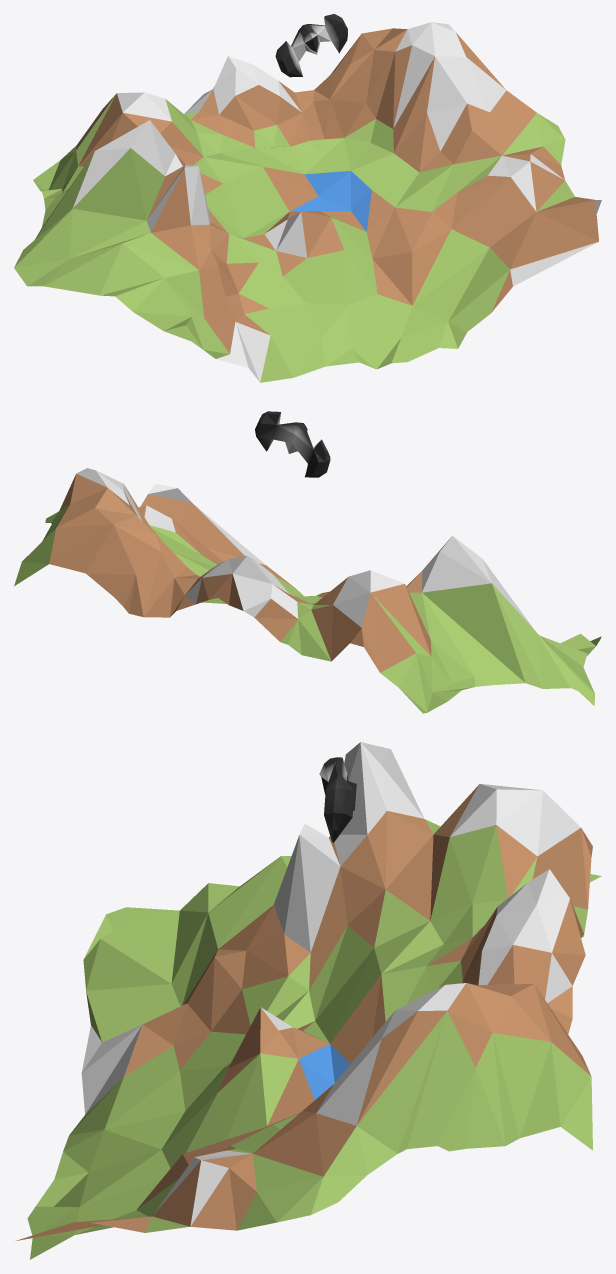
The model's file is start-screen.glb.
3 renders of one model, top to bottom at view 1: azimuth 30°, elevation 25°; view 2: azimuth 150°, elevation 25°; view 3: azimuth 270°, elevation 25°, orthographic. The views are drawn at different scales.
Parts seen in each view (by area): view 1: Grid, ShipPlayer; view 2: Grid, ShipPlayer; view 3: Grid, ShipPlayer.
Part boxes in pixels (<box>): Grid: <box>14,22,601,382</box>; ShipPlayer: <box>275,14,347,77</box>; Grid: <box>14,468,601,713</box>; ShipPlayer: <box>255,411,330,477</box>; Grid: <box>16,742,601,1259</box>; ShipPlayer: <box>319,757,356,842</box>.
Size of the model in its own units: 18.53 by 9.51 by 10.71.
